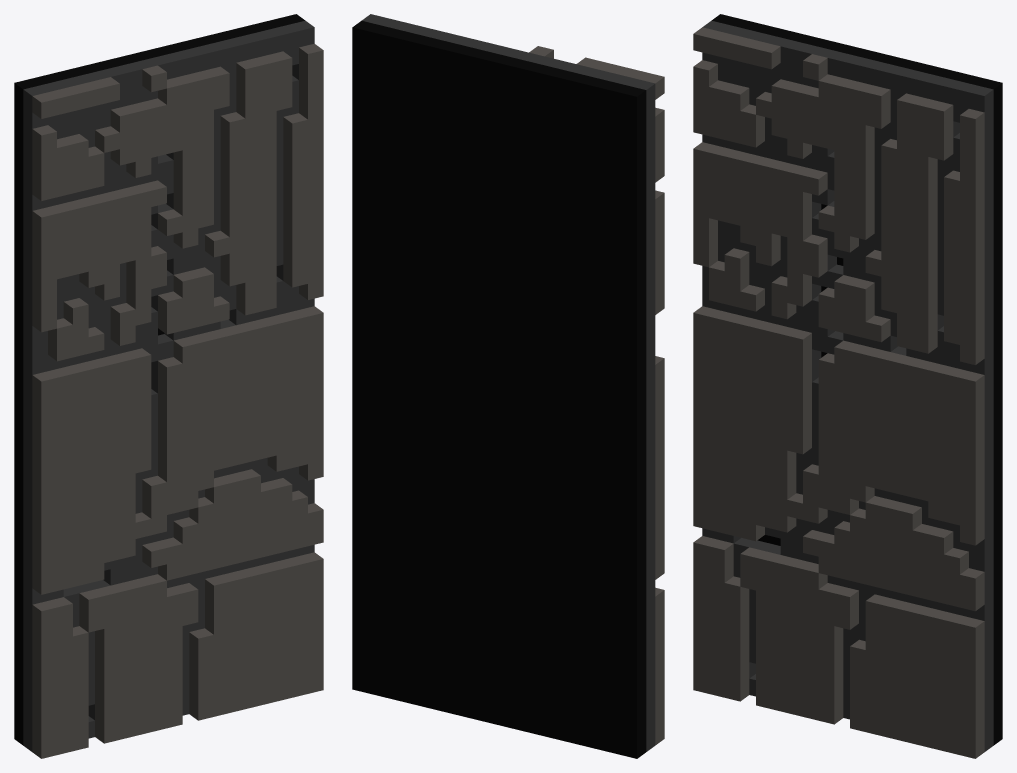
The model's file is wall5.obj.
The picture shows the model from 3 angles, left to right: view 1: azimuth 30°, elevation 25°; view 2: azimuth 150°, elevation 25°; view 3: azimuth 330°, elevation 25°; orthographic projection.
Bounding box in the file's own units: 1.8 × 4 × 0.3.
1 material, 1 textured.
